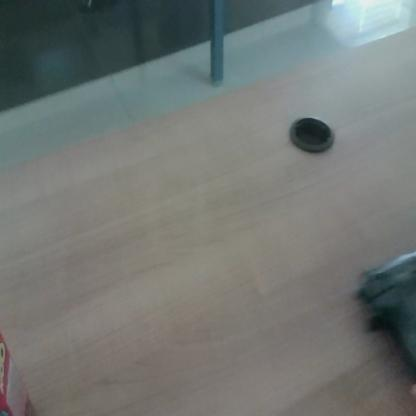handgun: (349, 201, 416, 416)
